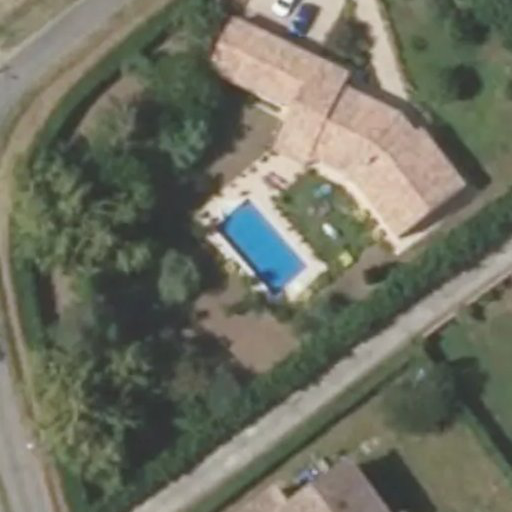pool: (218, 197, 305, 297)
